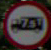Heavy Vehicles: (1, 1, 46, 45)
